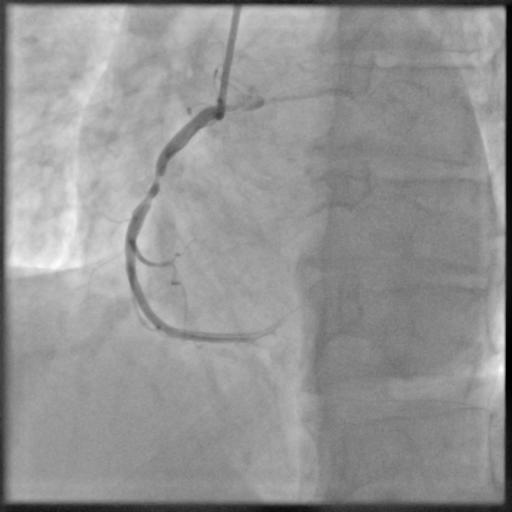Stenosis: (143, 165, 168, 188)
